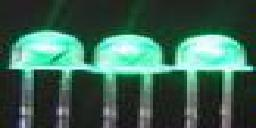LED: (7, 25, 87, 128), (172, 31, 253, 128), (92, 31, 170, 128)
